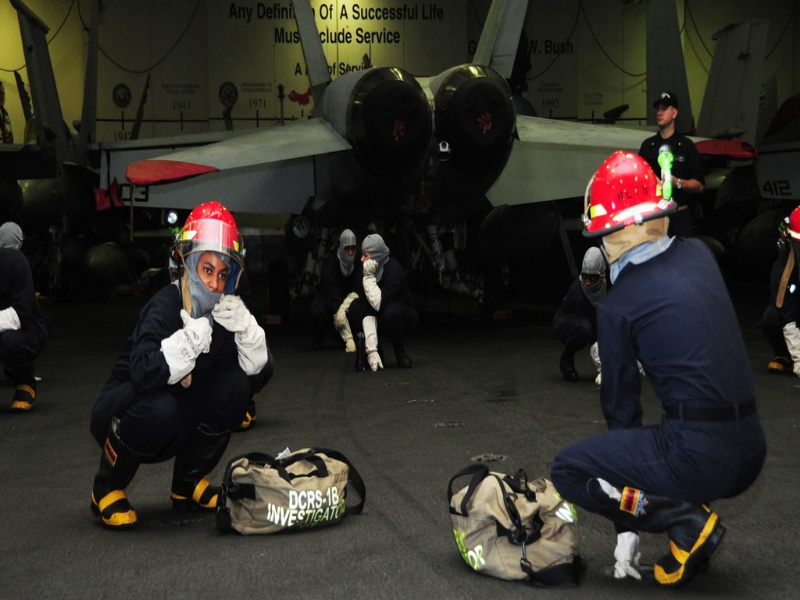helmet: (585, 149, 673, 220), (176, 203, 240, 253)
